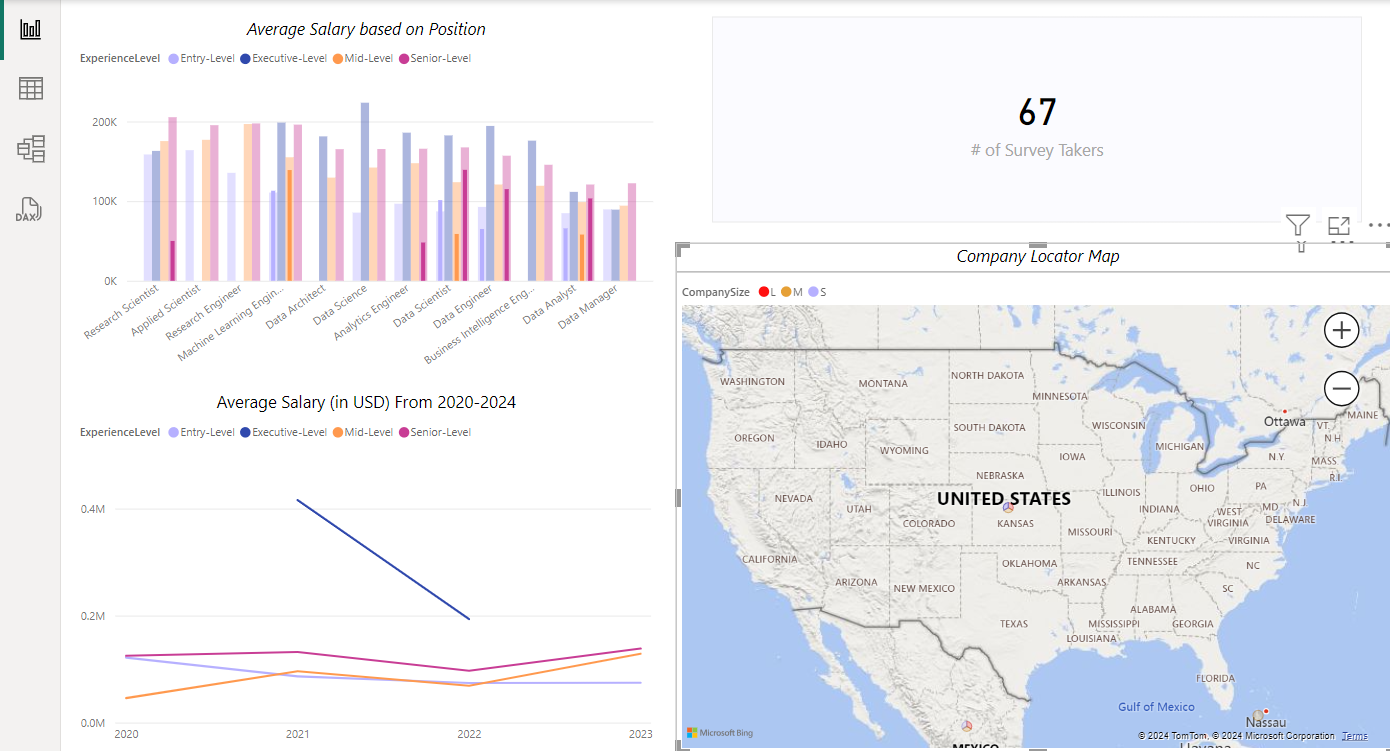

What the dashboard file says about the page in this screenshot:
{"tool":"powerbi","page":{"name":"Page 1","canvas":[1280,720],"ordinal":0},"visuals":[{"type":"map","title":"Company Locator Map","fields":{"Category":["DataScienceSalaries.CompanyLocation"],"Series":["DataScienceSalaries.CompanySize"]},"box":[588.7,233.1,691.8,487.1],"z":0},{"type":"lineChart","title":"Average Salary (in USD) From 2020-2024","fields":{"Category":["DataScienceSalaries.WorkYear"],"Y":["Avg(DataScienceSalaries.SalaryInUSD)"],"Series":["DataScienceSalaries.ExperienceLevel"]},"box":[12.9,373.4,558.6,346.1],"z":1000},{"type":"card","fields":{"Values":["CountNonNull(DataScienceSalaries.ExperienceLevel)"]},"box":[623.2,15.8,621.8,196.7],"z":2000},{"type":"clusteredColumnChart","title":"Average Salary based on Position","fields":{"Category":["DataScienceSalaries.JobTitle"],"Y":["Avg(DataScienceSalaries.SalaryInUSD)"],"Series":["DataScienceSalaries.ExperienceLevel"]},"box":[13.4,16.4,558.8,343.7],"z":3000}]}

Visuals, with their boxes on the page's 1280x720 design canvas (x1, y1, x2, y2). These are canvas units, not pixel positions in the 1390x751 screenshot, which may show the page scaled, cropped or inside an application window:
"Company Locator Map" map: x1=589, y1=233, x2=1280, y2=720
"Average Salary (in USD) From 2020-2024" lineChart: x1=13, y1=373, x2=572, y2=720
card - CountNonNull(DataScienceSalaries.ExperienceLevel): x1=623, y1=16, x2=1245, y2=212
"Average Salary based on Position" clusteredColumnChart: x1=13, y1=16, x2=572, y2=360
